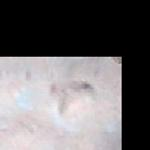alive: (5, 63, 117, 145)
